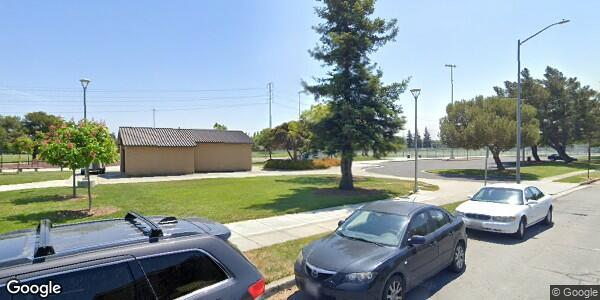Steel_Pole: (515, 18, 572, 182)
